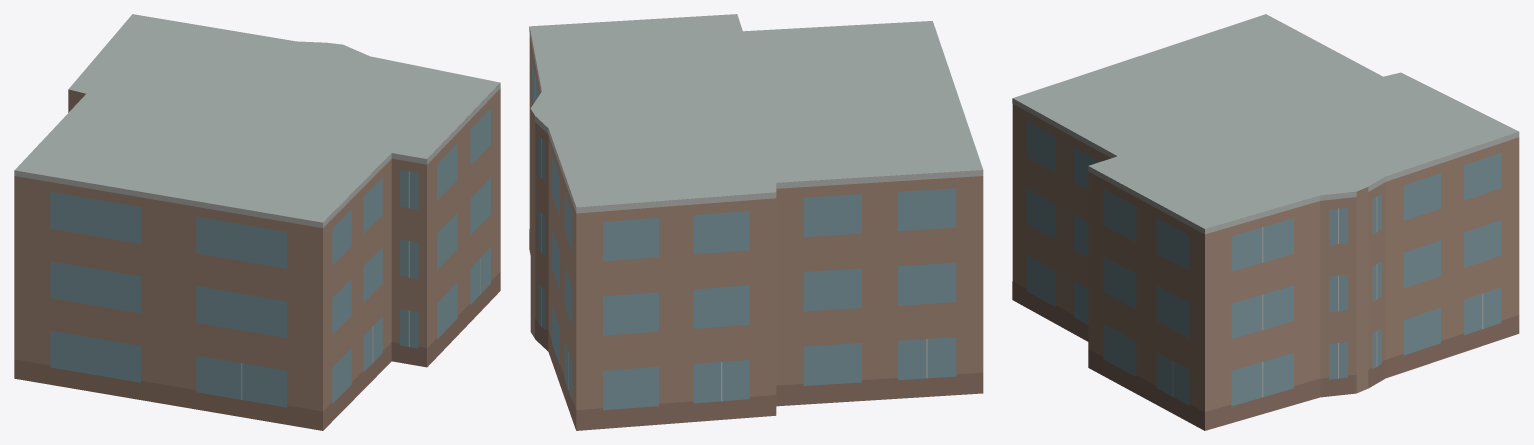
File: survey-upis-32849588.glb
The picture shows the model from 3 angles, left to right: view 1: azimuth 30°, elevation 25°; view 2: azimuth 150°, elevation 25°; view 3: azimuth 270°, elevation 25°; orthographic projection. The views are drawn at different scales.
Visible parts, largest first — view 1: survey-upis-32849588.tmp; view 2: survey-upis-32849588.tmp; view 3: survey-upis-32849588.tmp.
Part boxes in pixels (x1,y1,x2,y2): survey-upis-32849588.tmp: (14,14,500,430); survey-upis-32849588.tmp: (529,14,983,430); survey-upis-32849588.tmp: (1012,14,1519,430).
Size of the model in its own units: 20.91 by 9.15 by 20.83.
